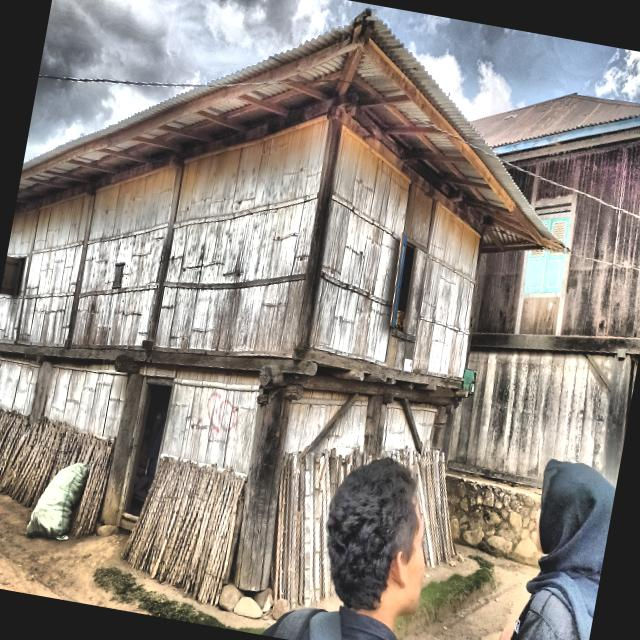column: (232, 383, 303, 591), (99, 373, 144, 525), (362, 392, 394, 457), (28, 361, 53, 426), (429, 404, 454, 456)
door: (125, 383, 172, 517)
roof: (15, 9, 564, 250), (471, 93, 640, 163)
wall: (311, 124, 480, 381), (154, 119, 328, 351), (448, 347, 614, 479), (71, 167, 176, 345), (560, 143, 640, 337), (18, 194, 90, 343), (159, 378, 259, 477), (43, 365, 128, 439), (0, 211, 36, 339), (283, 389, 352, 454), (472, 250, 525, 333), (315, 394, 367, 459), (0, 357, 39, 415), (535, 157, 577, 201), (382, 399, 416, 453), (519, 297, 559, 335), (409, 402, 436, 450), (506, 164, 536, 205)
window: (390, 232, 427, 336), (523, 217, 570, 293), (0, 256, 26, 296)
